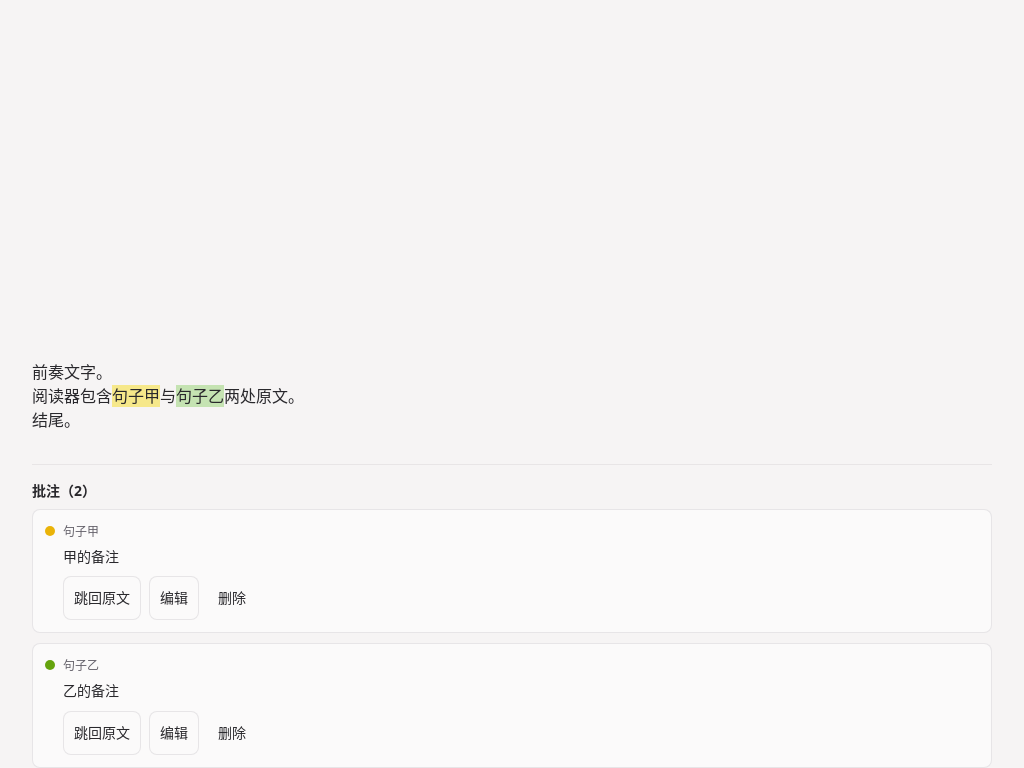
Test case: FIX-288 批注编辑弹层按目标重置 › 编辑 A → 直接编辑 B：表单显示 B 的备注，不残留 A 的内容
(page scrolled)
Expected: the heading "批注（2）" is shown, [32,481,96,500]
Note: 打开 A 的编辑弹层
Click the button "编辑" below "甲的备注". click: (174, 598)
box: [149,576,199,620]
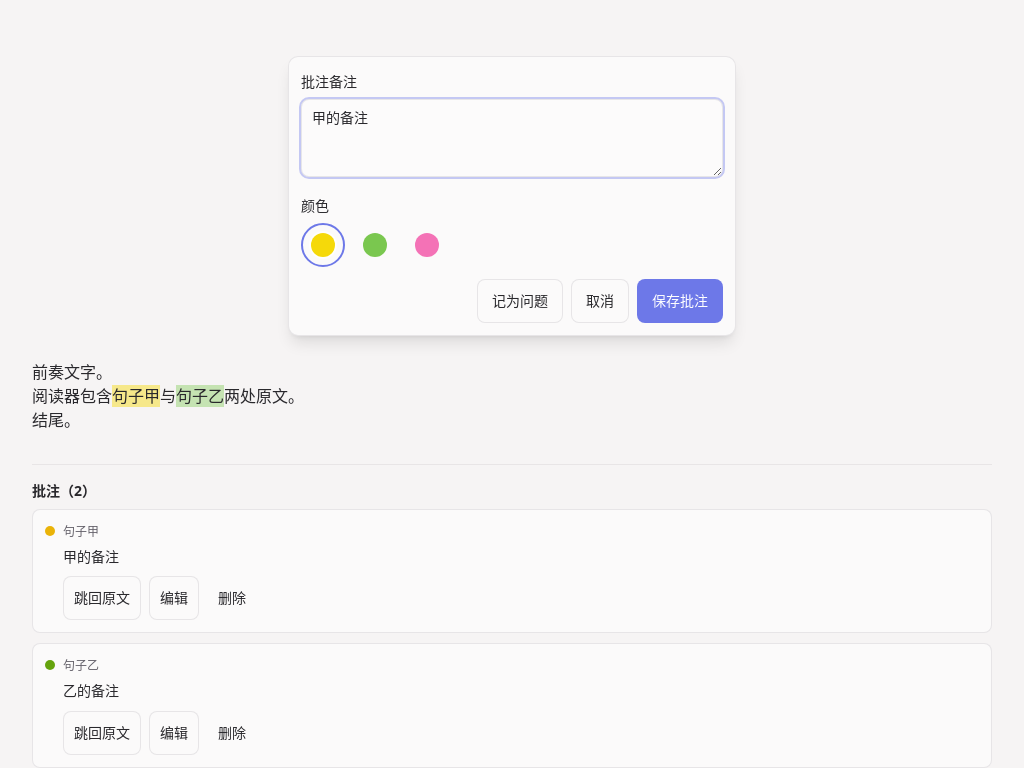
Expected: the text box labelled "批注备注" holds "甲的备注", [301,99,723,177]
Note: 不关闭弹层，直接切换到 B —— 实例复用不得残留 A 的内容
Click the button "编辑" below "乙的备注". click: (174, 732)
box: [149,710,199,754]
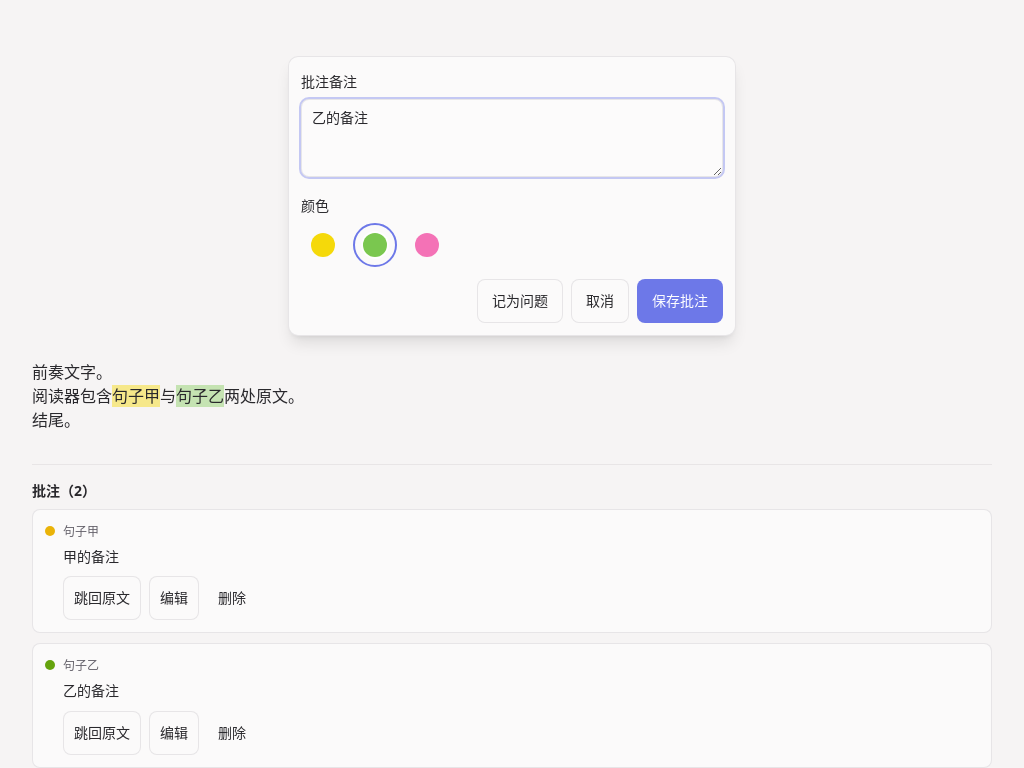
Expected: the text box labelled "批注备注" holds "乙的备注", [301,99,723,177]
